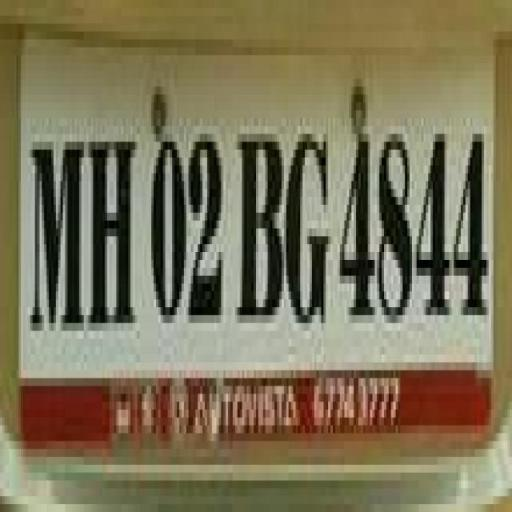number plate: (0, 16, 489, 441)
